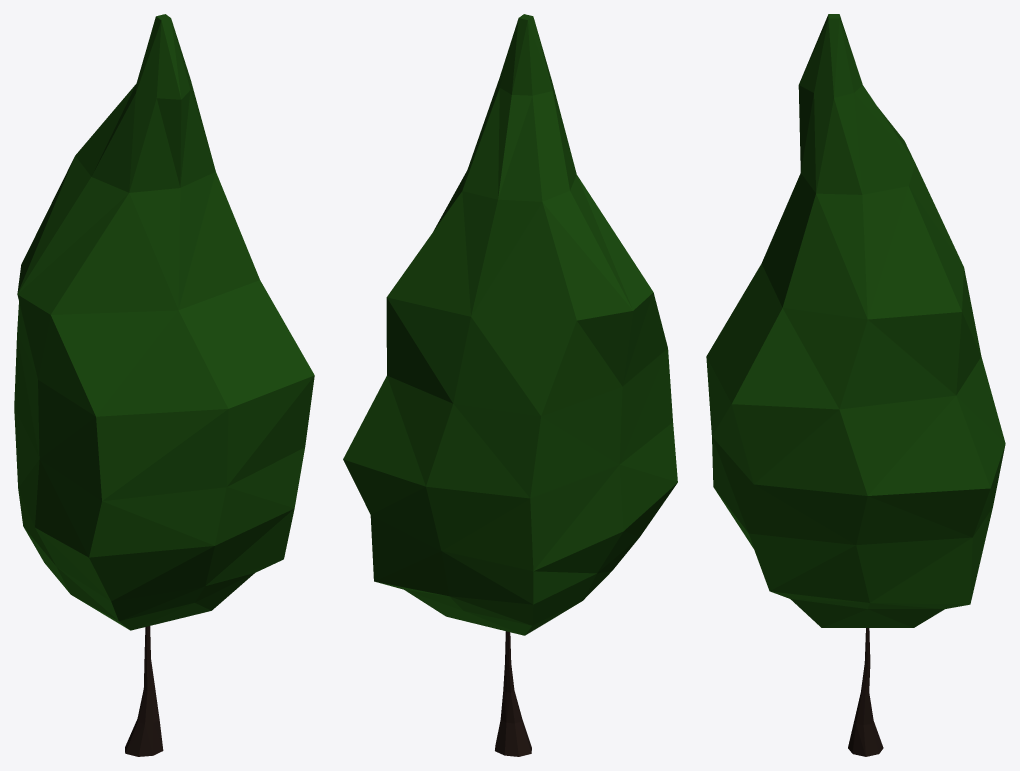
Rendered from Tree#6.FBX.
3 views of the same model, side by side, from view 1: azimuth 30°, elevation 25°; view 2: azimuth 150°, elevation 25°; view 3: azimuth 270°, elevation 25° (orthographic). The views are drawn at different scales.
Parts seen in each view (by area): view 1: Tree 6; view 2: Tree 6; view 3: Tree 6.
Boxes of the visible parts, x1,y1,x2,y2 form: Tree 6: (14,14,314,756); Tree 6: (343,14,677,756); Tree 6: (706,14,1005,756).
Size of the model in its own units: 122 by 341 by 126.
